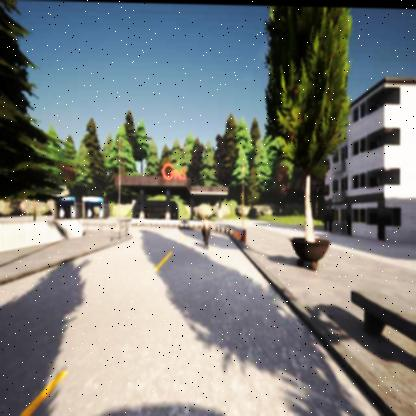motobike: (201, 217, 212, 248)
